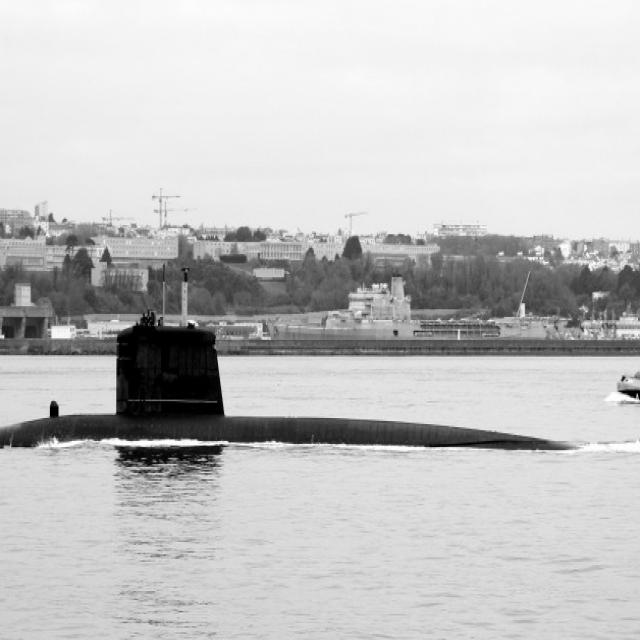submarine: (1, 326, 640, 447)
